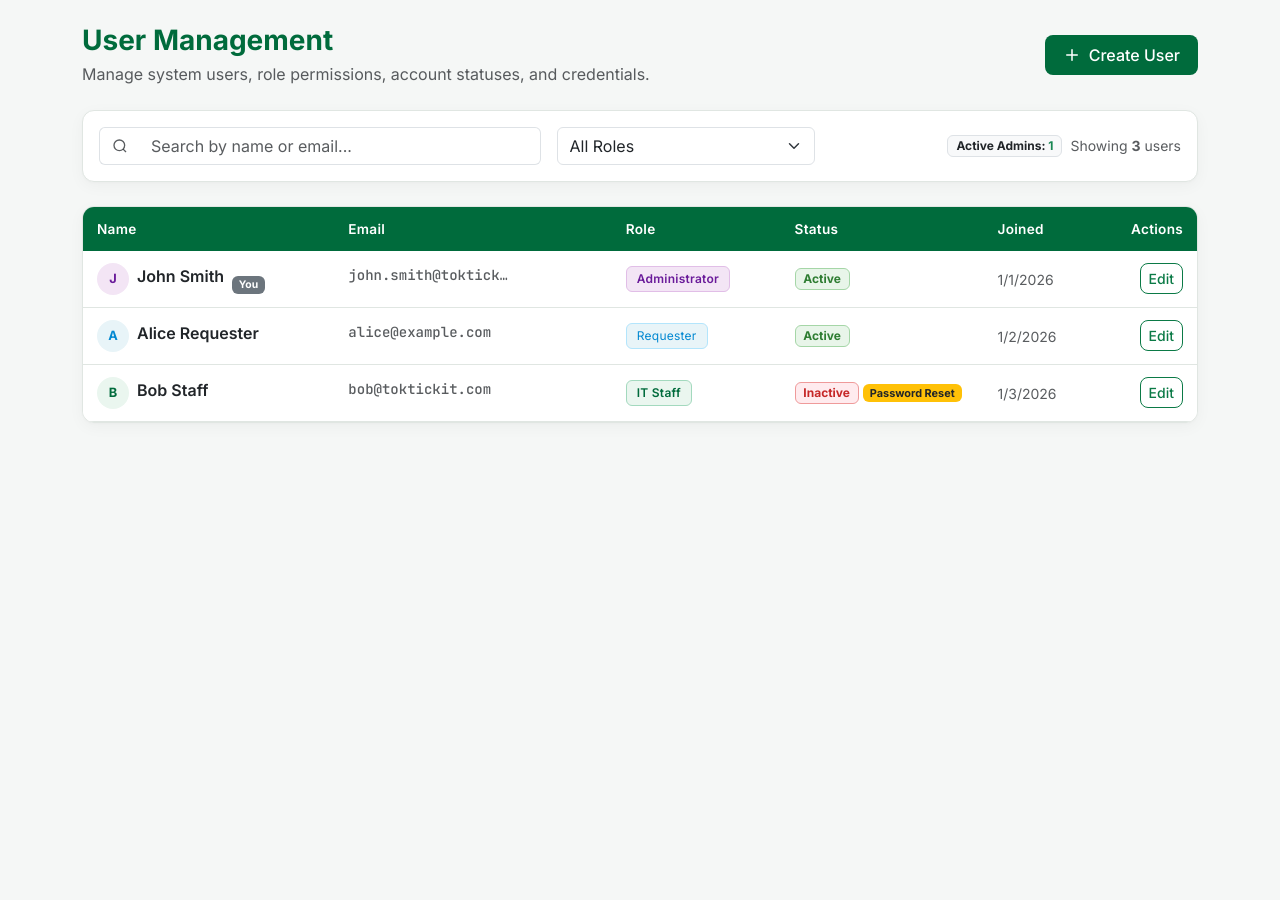
Test case: UserManagement Component Tests (UI-06, AC-13..16, FR-17..20) › opens create user modal and creates a user successfully (AC-13, FR-18)
The width and height of the screenshot is (1280, 900).
Click the button with test id "btn-create-user". click: x=1121, y=55
box: [1045, 35, 1198, 75]
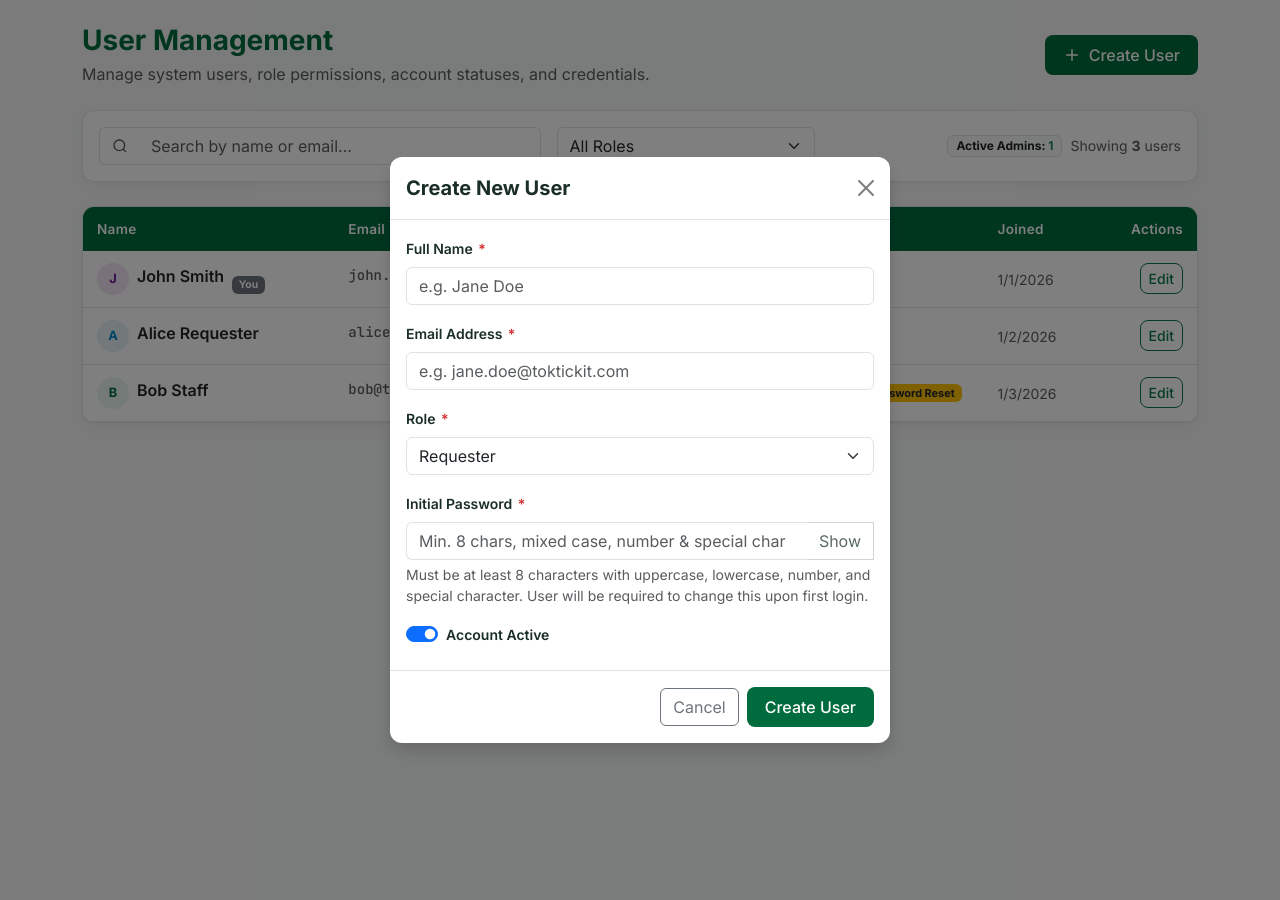
Now the dialog with test id "create-user-modal" is shown
Fill form
Type "Carol Danvers" into the field with test id "create-name-input". click: x=640, y=286
box: [406, 267, 874, 305]
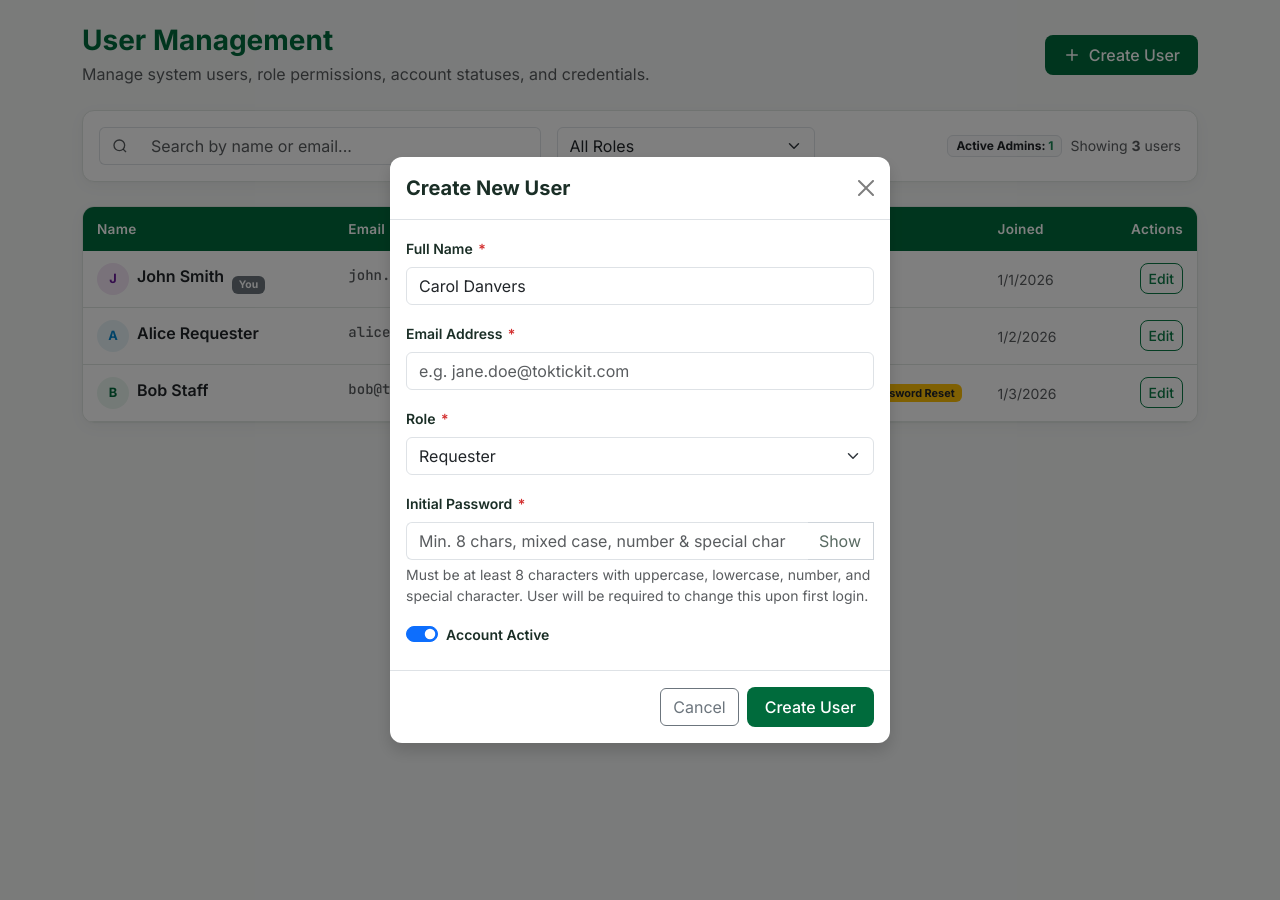
Type "carol@toktickit.com" into the field with test id "create-email-input". click: x=640, y=371
box: [406, 352, 874, 390]
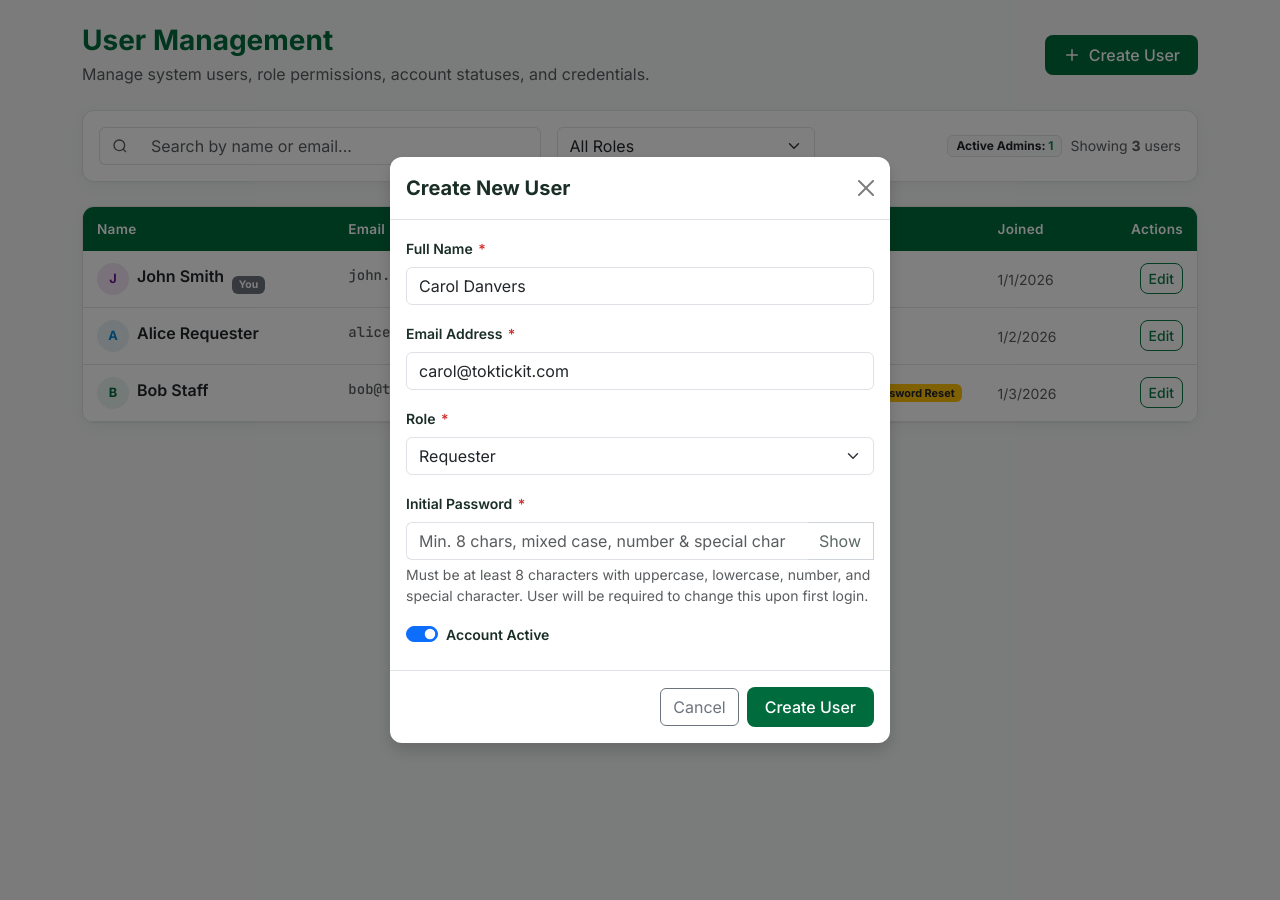
Select "IT Staff" in the dropdown with test id "create-role-select". click: x=640, y=456
box: [406, 437, 874, 475]
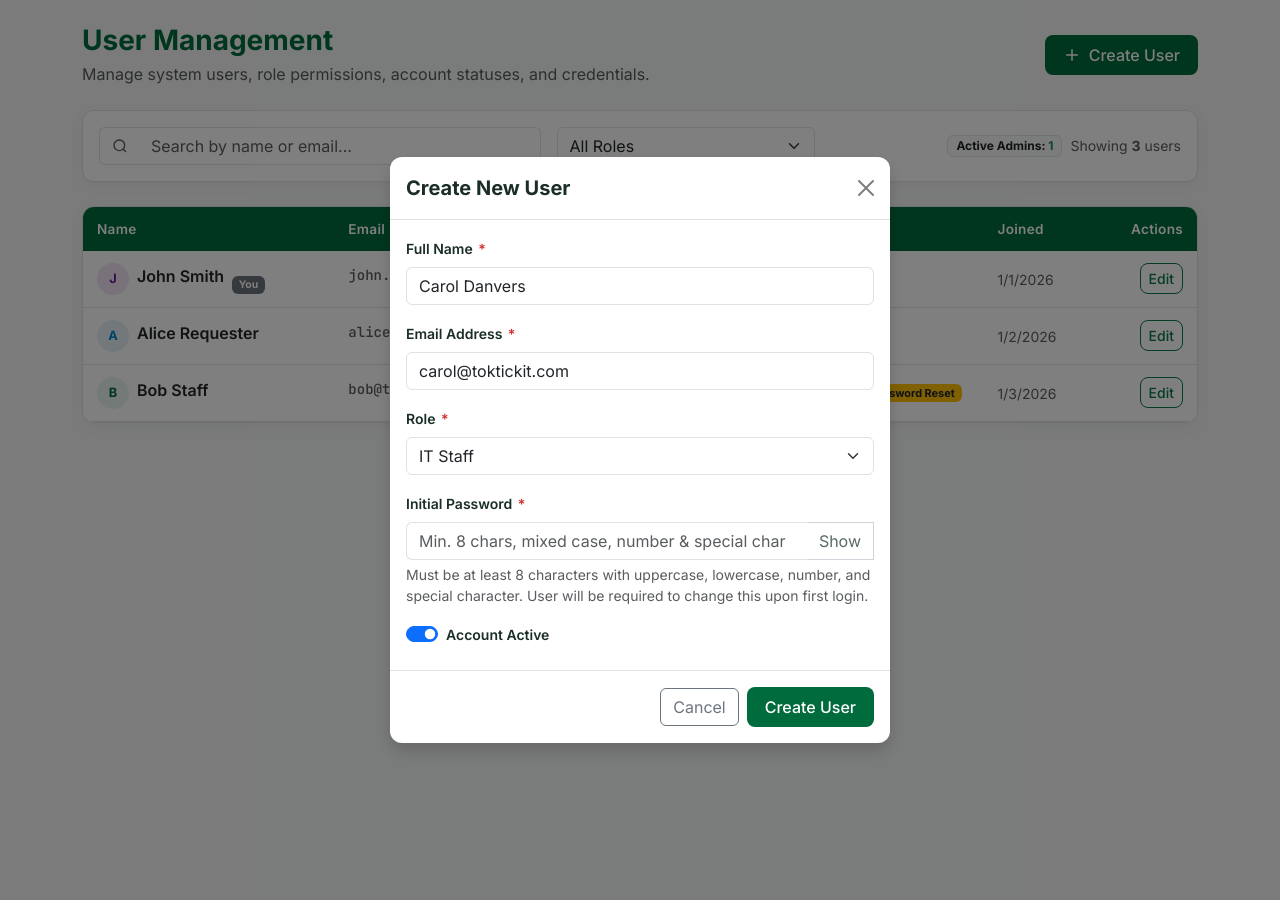
Type "InitialPassword123!" into the password field with test id "create-password-input". click: x=607, y=541
box: [406, 522, 808, 560]
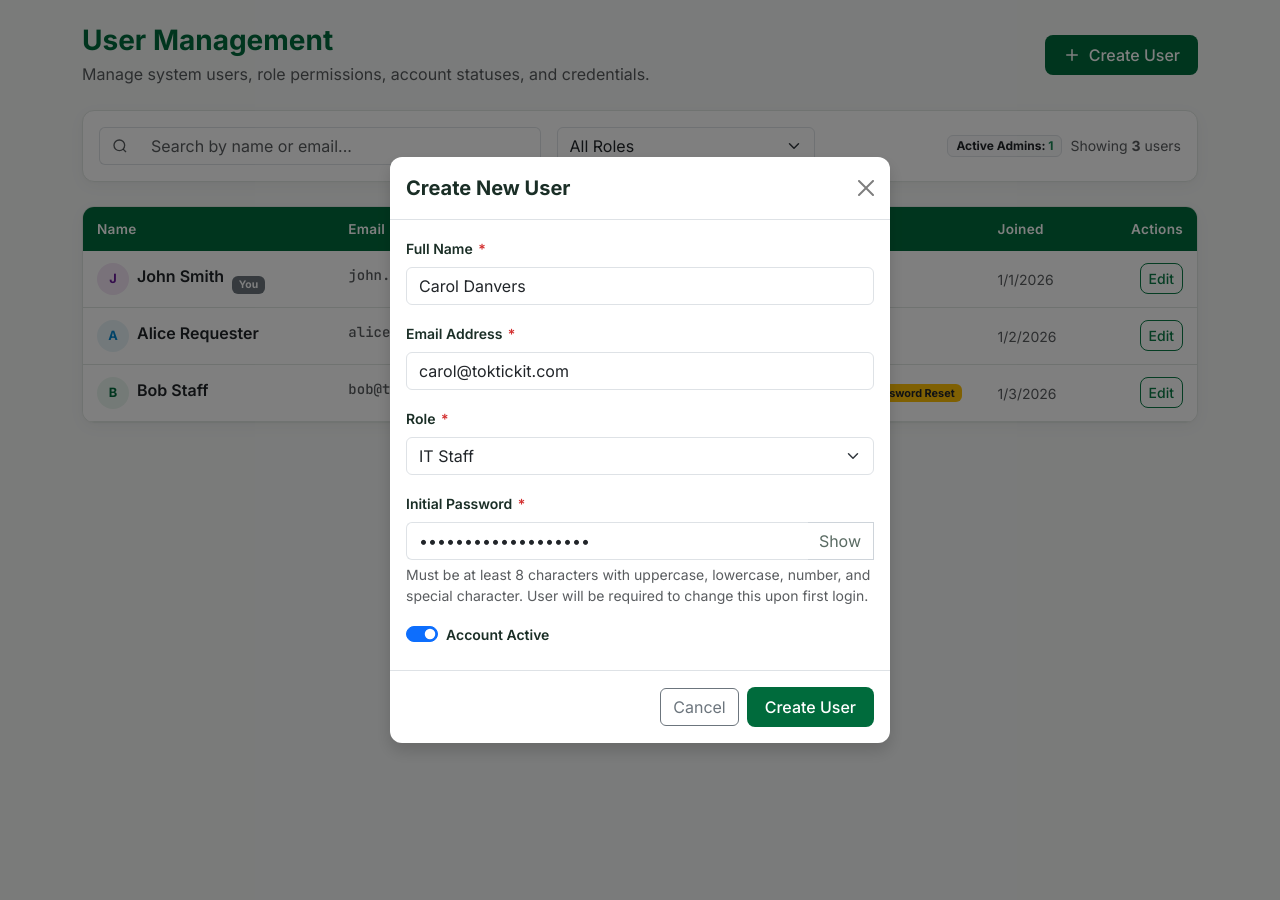
Click the button with test id "btn-submit-create-user". click: x=810, y=707
box: [747, 687, 874, 727]
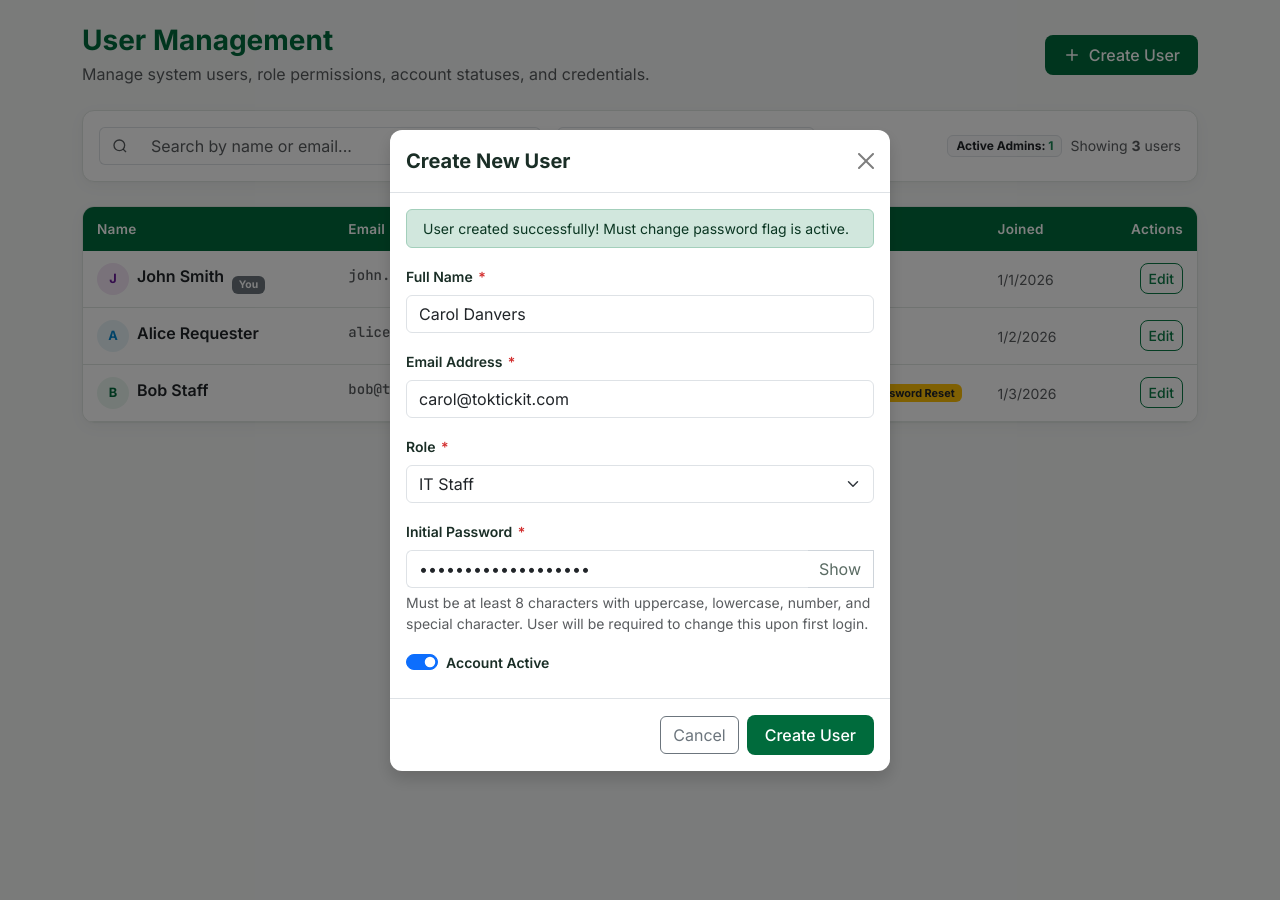
Now the message with test id "create-success" shows "User created successfully", box [423, 220, 849, 236]
